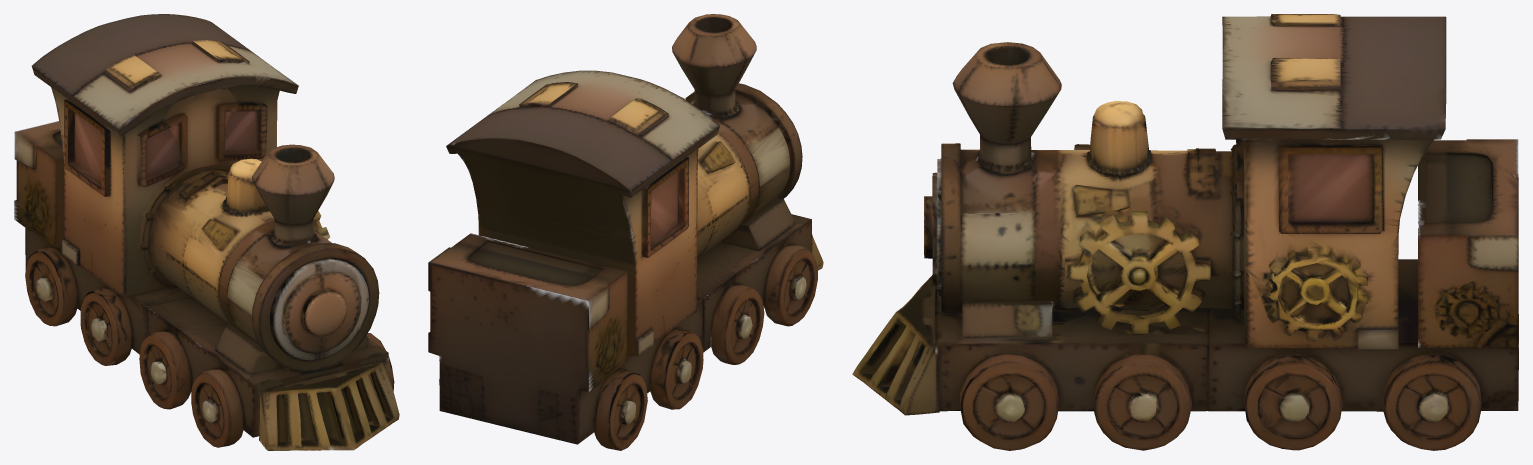
Rendered from Tren.fbx.
3 renders of one model, left to right at view 1: azimuth 30°, elevation 25°; view 2: azimuth 150°, elevation 25°; view 3: azimuth 270°, elevation 25°, orthographic. The views are drawn at different scales.
Visible parts, largest first — view 1: model; view 2: model; view 3: model.
Part boxes in pixels (x1,y1,x2,y2): model: [14, 14, 399, 450]; model: [428, 14, 823, 450]; model: [852, 14, 1518, 450].
Bounding box in the file's own units: 70.26 × 106 × 177.
